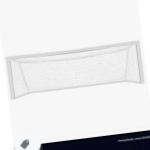goals: (5, 39, 145, 102)
